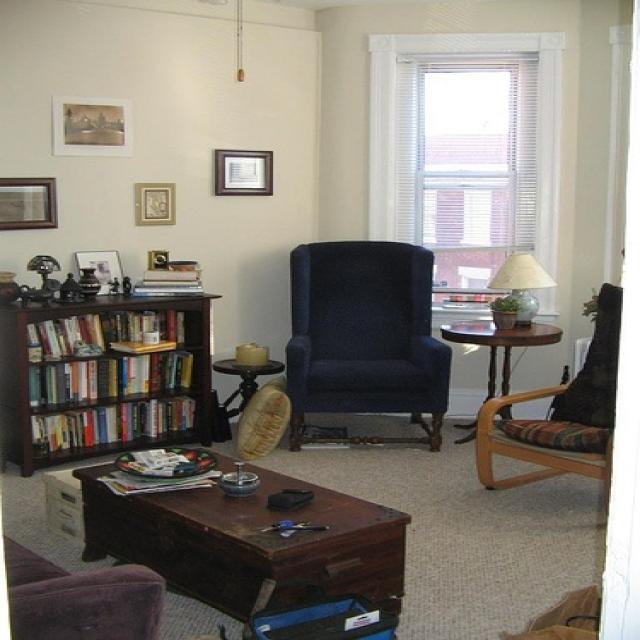chair: (286, 242, 453, 454), (477, 284, 626, 492), (3, 535, 167, 640)
pottedplant: (491, 297, 521, 331)
